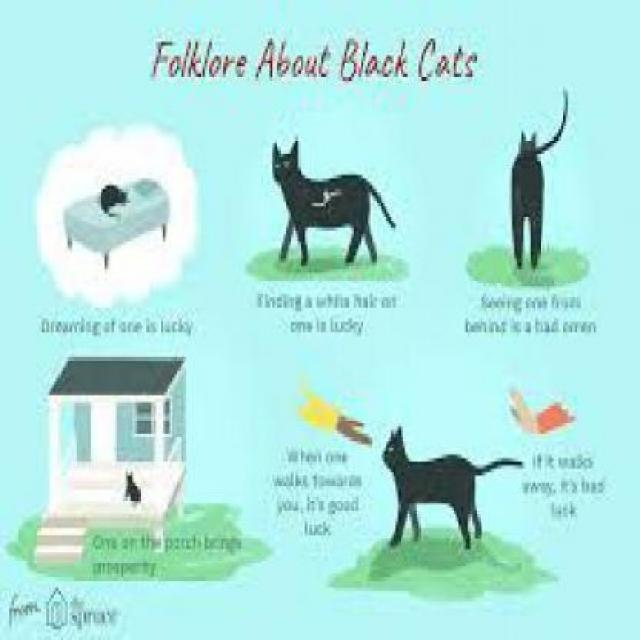animals: (384, 426, 531, 560), (258, 137, 405, 266), (496, 80, 576, 277)
